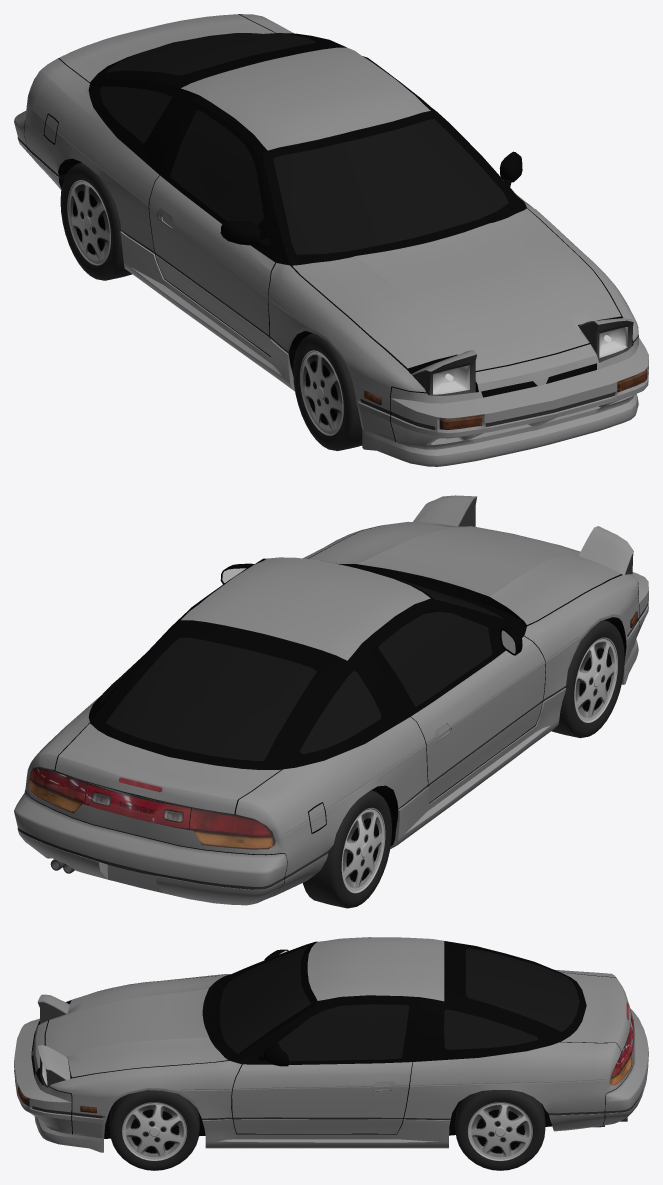
3 renders of one model, top to bottom at view 1: azimuth 30°, elevation 25°; view 2: azimuth 150°, elevation 25°; view 3: azimuth 270°, elevation 25°, orthographic. The views are drawn at different scales.
Visible parts, largest first — view 1: Plane.001_6, Circle.012_5, Circle.011_0, Plane.003_4; view 2: Plane.001_6, Plane.004_8, Circle.011_0, Circle.012_5, Plane.003_4; view 3: Plane.001_6, Circle.010_1, Circle.009_3, Plane.003_4, Plane.004_8.
Boxes of the visible parts, x1,y1,x2,y2 form: Plane.001_6: (14, 14, 648, 466); Circle.012_5: (293, 333, 362, 450); Circle.011_0: (60, 162, 132, 280); Plane.003_4: (411, 318, 633, 395); Plane.001_6: (14, 521, 648, 905); Plane.004_8: (29, 766, 275, 849); Circle.011_0: (303, 790, 391, 908); Circle.012_5: (551, 620, 624, 738); Plane.003_4: (413, 495, 633, 574); Plane.001_6: (14, 937, 648, 1152); Circle.010_1: (455, 1090, 545, 1170); Circle.009_3: (109, 1090, 199, 1170); Plane.003_4: (37, 994, 70, 1087); Plane.004_8: (610, 1008, 634, 1085).
Size of the model in its own units: 2.43 by 1.7 by 6.08.
17 materials, 3 textured.
